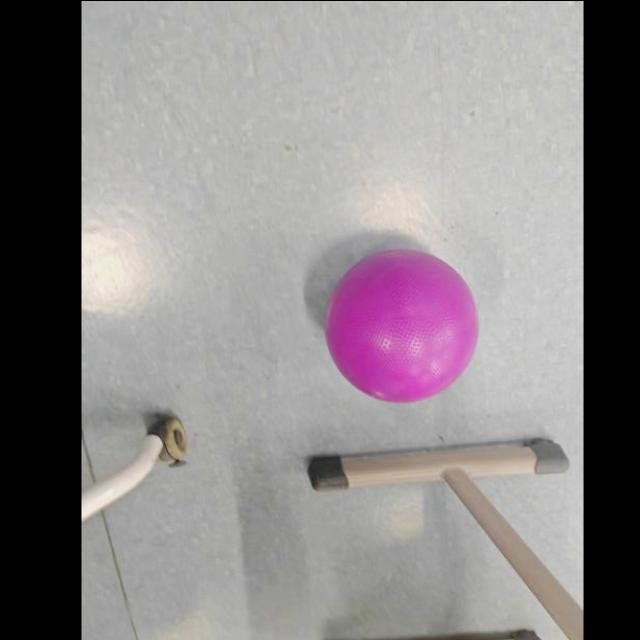P: (321, 243, 481, 403)
